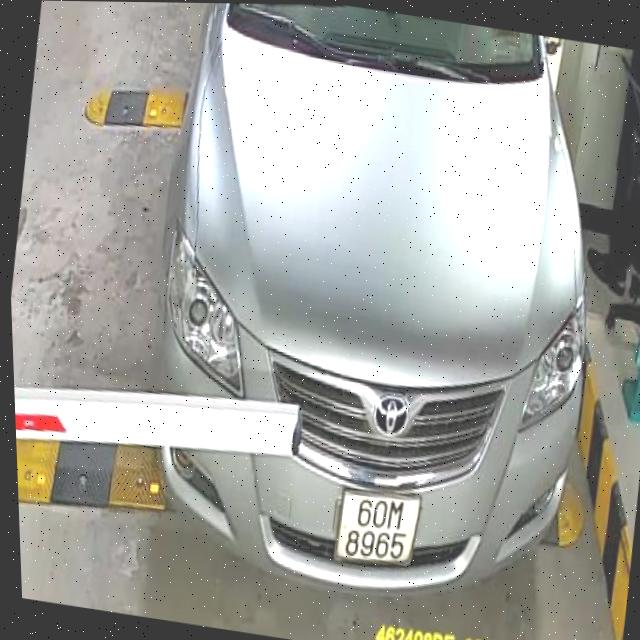car: (107, 2, 640, 627)
plate: (320, 482, 431, 579)
